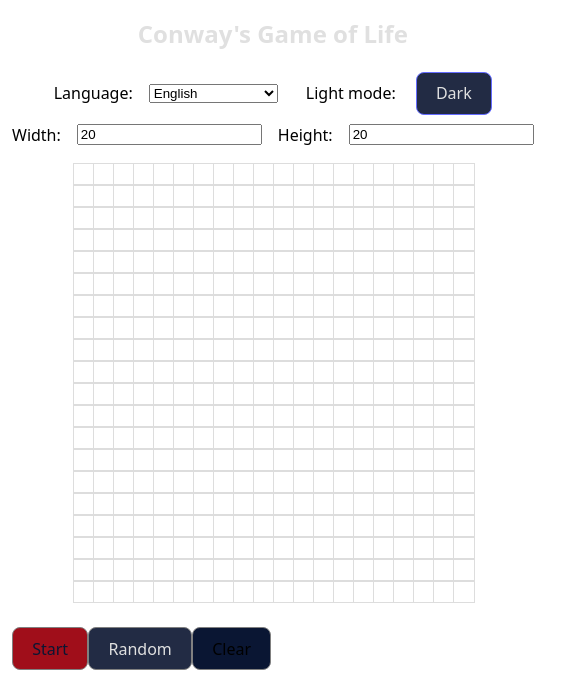
Test: App › changes language and updates the title
The width and height of the screenshot is (577, 687).
Select "Français" in the dropdown named "Select language" at {"x": 213, "y": 93}, box x1=149 y1=84 x2=278 y2=103
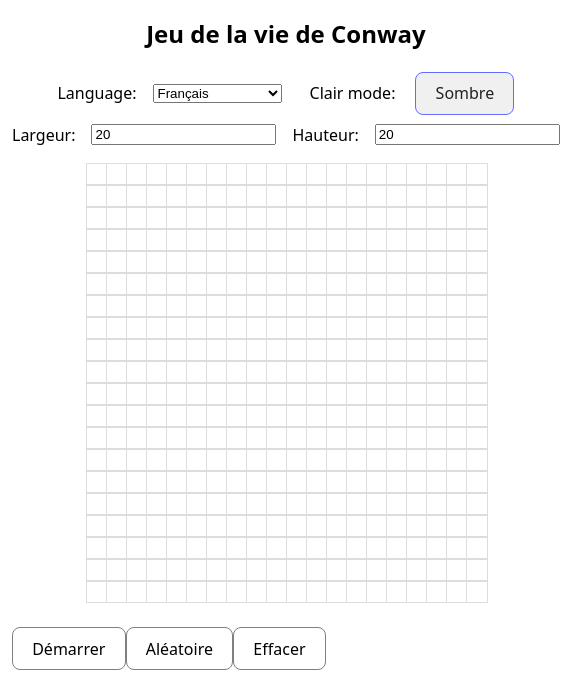
Expected: the heading "Jeu de la vie de Conway" is shown, x1=146 y1=17 x2=426 y2=50
